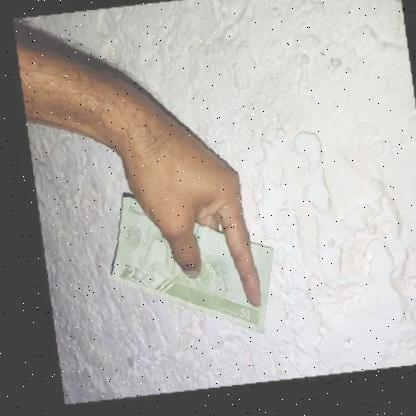fifty-back-vef: (90, 183, 278, 349)
